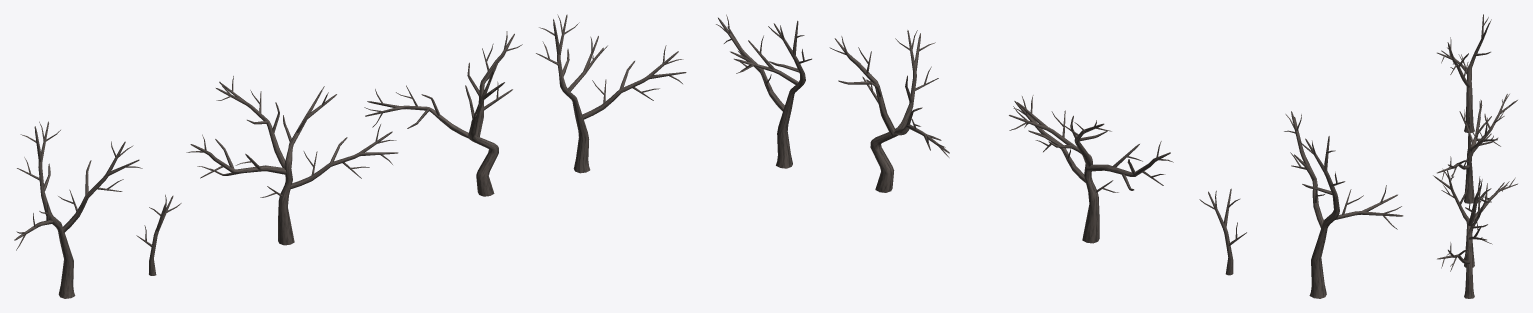
File: DeadTree.glb
3 views of the same model, side by side, from view 1: azimuth 30°, elevation 25°; view 2: azimuth 150°, elevation 25°; view 3: azimuth 270°, elevation 25° (orthographic). The views are drawn at different scales.
Visible parts, largest first — view 1: DeadTree_8, DeadTree_7, DeadTree_6, DeadTree_10, DeadTree_9; view 2: DeadTree_8, DeadTree_7, DeadTree_10, DeadTree_6, DeadTree_9; view 3: DeadTree_8, DeadTree_10, DeadTree_7, DeadTree_6, DeadTree_9.
Boxes of the visible parts, bbox=[...] form: DeadTree_8: bbox=[186, 76, 398, 245]; DeadTree_7: bbox=[364, 31, 522, 196]; DeadTree_6: bbox=[536, 14, 686, 173]; DeadTree_10: bbox=[14, 121, 142, 298]; DeadTree_9: bbox=[136, 194, 181, 275]; DeadTree_8: bbox=[1009, 95, 1173, 243]; DeadTree_7: bbox=[829, 30, 949, 192]; DeadTree_10: bbox=[1284, 111, 1403, 298]; DeadTree_6: bbox=[716, 14, 811, 168]; DeadTree_9: bbox=[1199, 188, 1246, 275]; DeadTree_8: bbox=[1437, 94, 1517, 203]; DeadTree_10: bbox=[1437, 14, 1491, 132]; DeadTree_7: bbox=[1433, 168, 1517, 267]; DeadTree_6: bbox=[1437, 191, 1492, 298]; DeadTree_9: bbox=[1459, 109, 1470, 149].
Size of the model in its own units: 29.75 by 7.13 by 5.03.
Materials: 1 (1 with a texture image).
